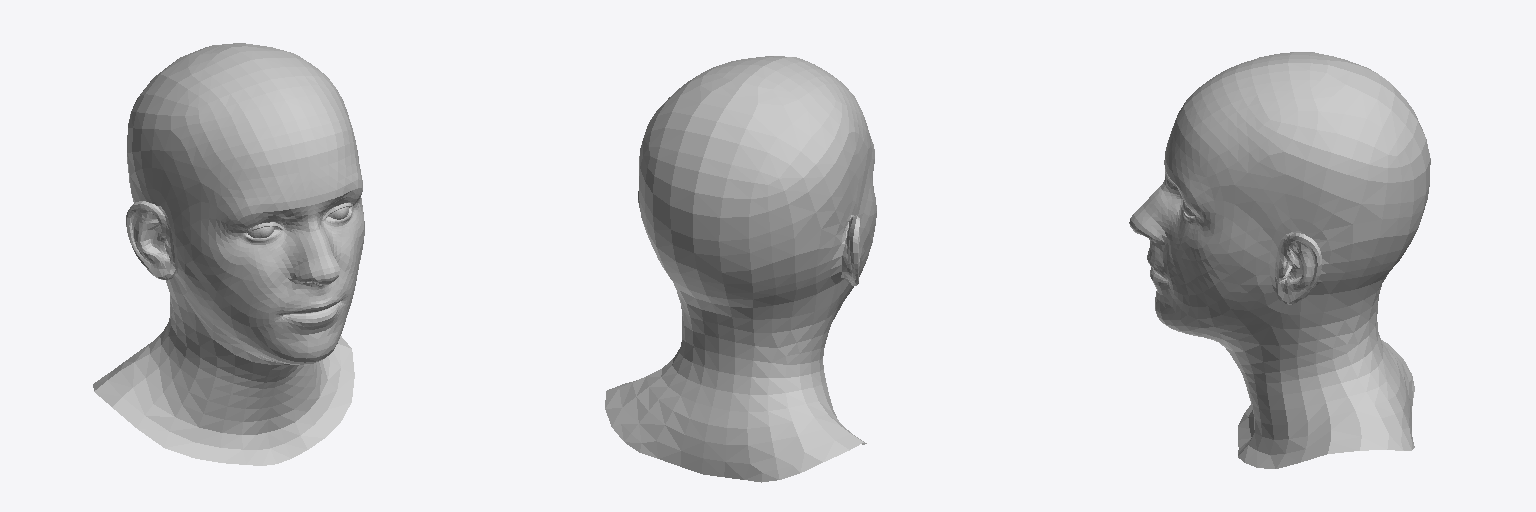
Rendered from flame_uv_mod.obj.
3 views of the same model, side by side, from view 1: azimuth 30°, elevation 25°; view 2: azimuth 150°, elevation 25°; view 3: azimuth 270°, elevation 25° (orthographic).
Visible parts, largest first — view 1: head_template; view 2: head_template; view 3: head_template.
Boxes of the visible parts, box(x1,y1,x2,y2) form: head_template: box(93, 43, 364, 465); head_template: box(605, 56, 876, 482); head_template: box(1129, 52, 1430, 468).
Size of the model in its own units: 0.2073 by 0.3136 by 0.2217.